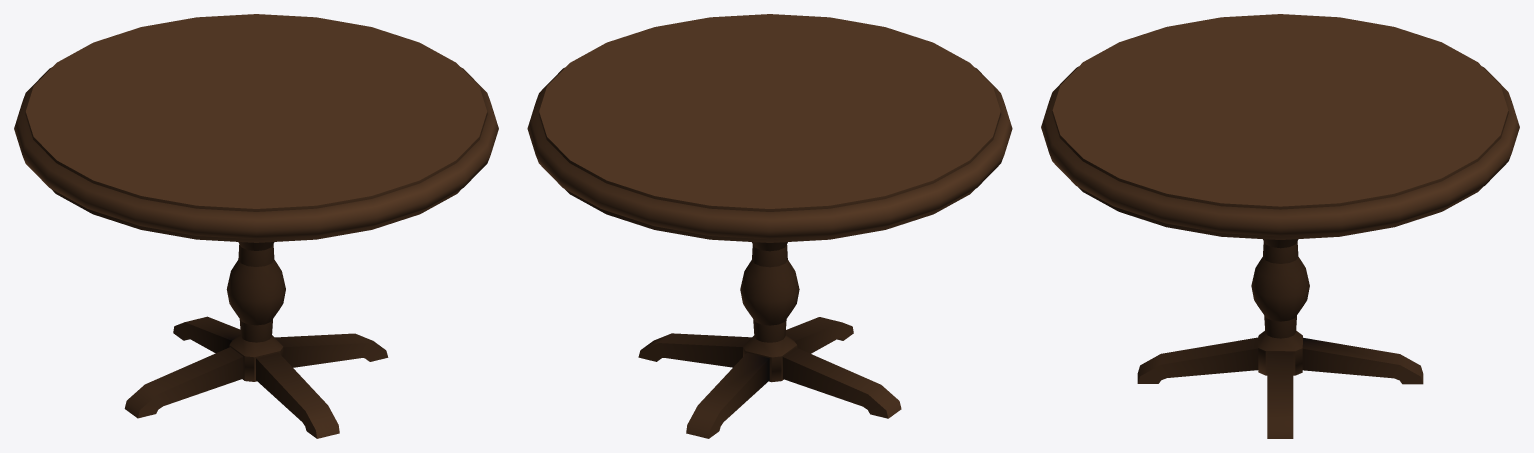
Rendered from DiningTableCircular01.fbx.
3 views of the same model, side by side, from view 1: azimuth 30°, elevation 25°; view 2: azimuth 150°, elevation 25°; view 3: azimuth 270°, elevation 25° (orthographic).
Visible parts, largest first — view 1: DiningTableCircular01 1; view 2: DiningTableCircular01 1; view 3: DiningTableCircular01 1.
Boxes of the visible parts, x1,y1,x2,y2 form: DiningTableCircular01 1: (14,14,498,438); DiningTableCircular01 1: (527,14,1012,438); DiningTableCircular01 1: (1041,14,1519,438).
Size of the model in its own units: 1.14 by 0.7032 by 1.14.
